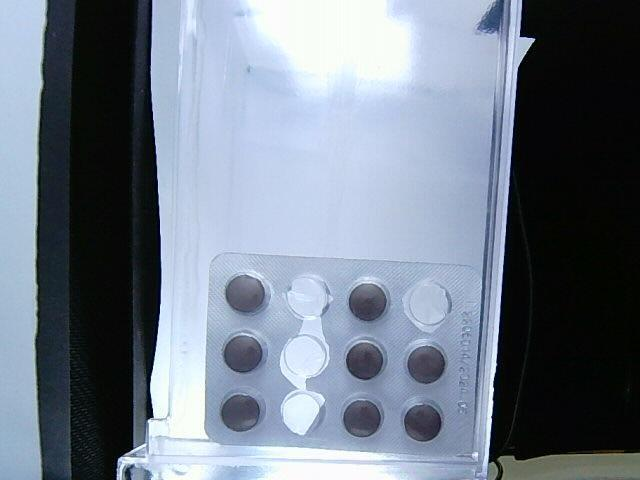Light Front: (203, 253, 481, 459)
No Pill Front: (280, 318, 328, 389), (403, 279, 453, 332), (286, 274, 332, 318), (283, 390, 325, 434)
Pill Front: (225, 274, 270, 316), (221, 331, 266, 372), (219, 390, 264, 431), (349, 278, 389, 322), (345, 339, 385, 379), (404, 401, 442, 441), (343, 398, 381, 437), (408, 345, 445, 383)
